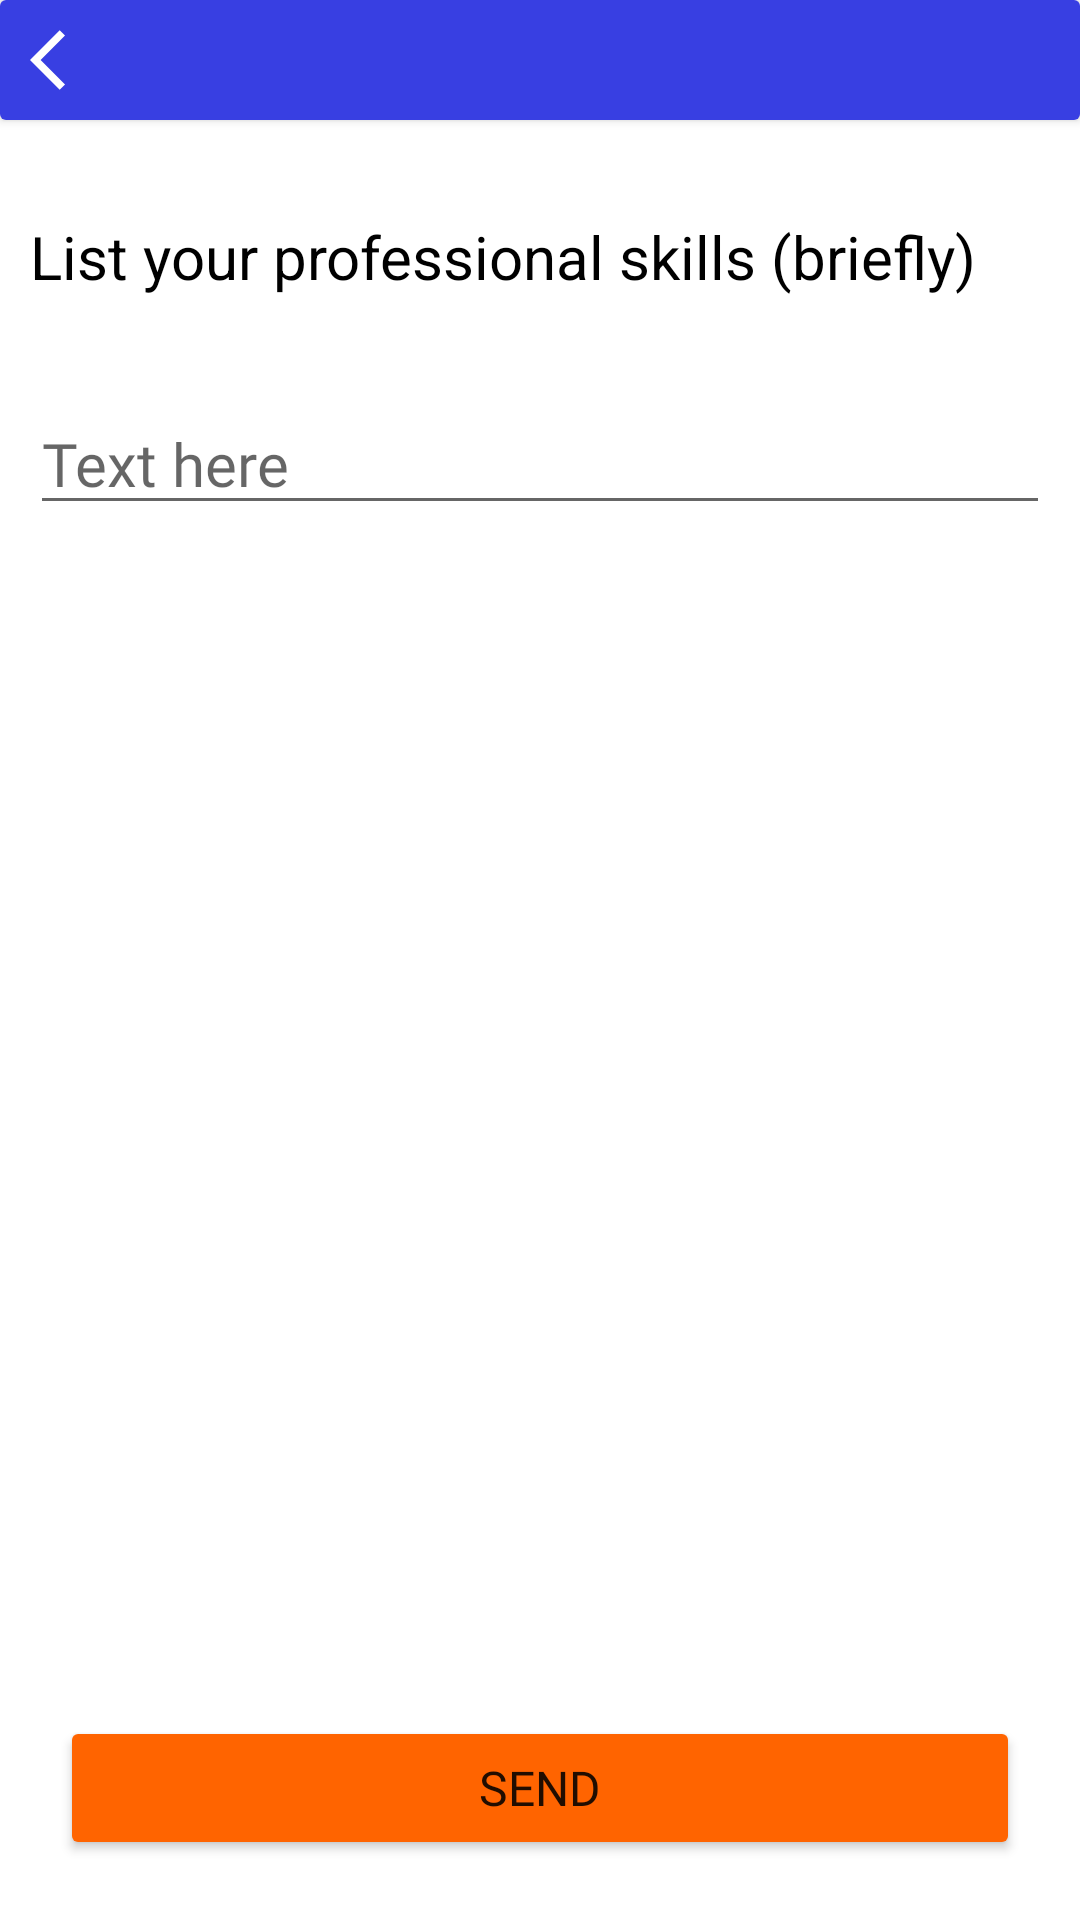

Icon click points for this 1080×1920 phone screenshot, format point (x, y):
back: point (47, 60)
